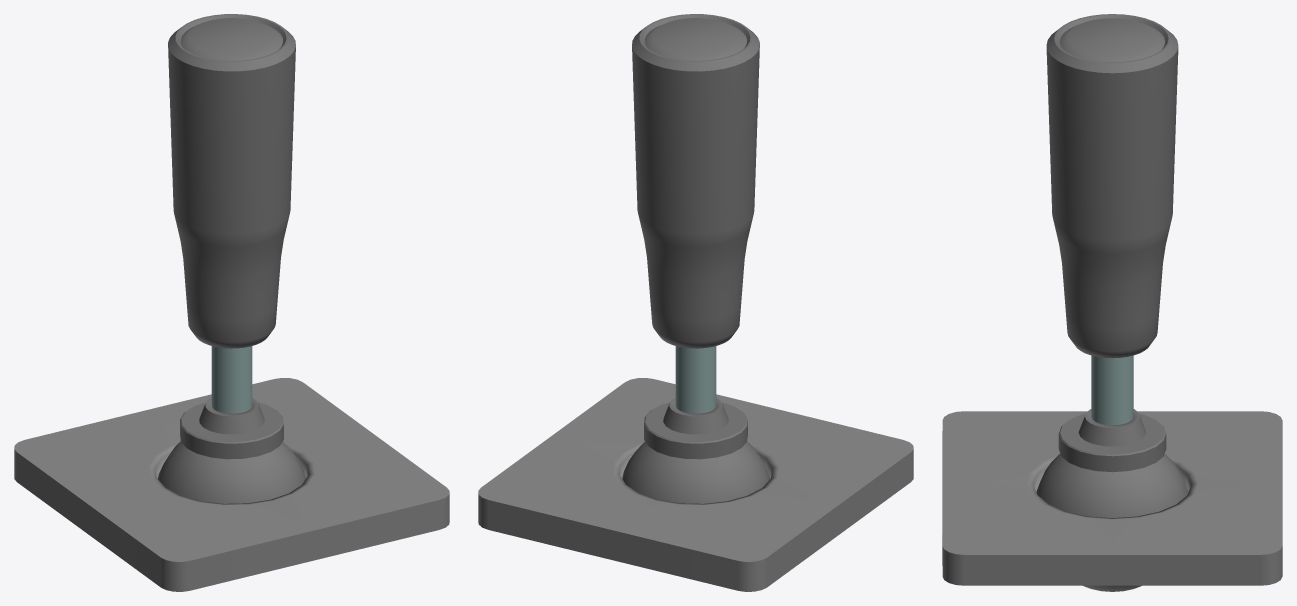
Rendered from Joystick.fbx.
The picture shows the model from 3 angles, left to right: view 1: azimuth 30°, elevation 25°; view 2: azimuth 150°, elevation 25°; view 3: azimuth 270°, elevation 25°; orthographic projection. The views are drawn at different scales.
Visible parts, largest first — view 1: Joystick, JoystickPlate; view 2: Joystick, JoystickPlate; view 3: Joystick, JoystickPlate.
Boxes of the visible parts, x1,y1,x2,y2 form: Joystick: (157,14,305,503); JoystickPlate: (14,378,449,591); Joystick: (622,14,770,503); JoystickPlate: (478,378,913,591); Joystick: (1036,14,1188,591); JoystickPlate: (942,411,1282,585).
Bounding box in the file's own units: 12.76 × 22.76 × 12.76.
